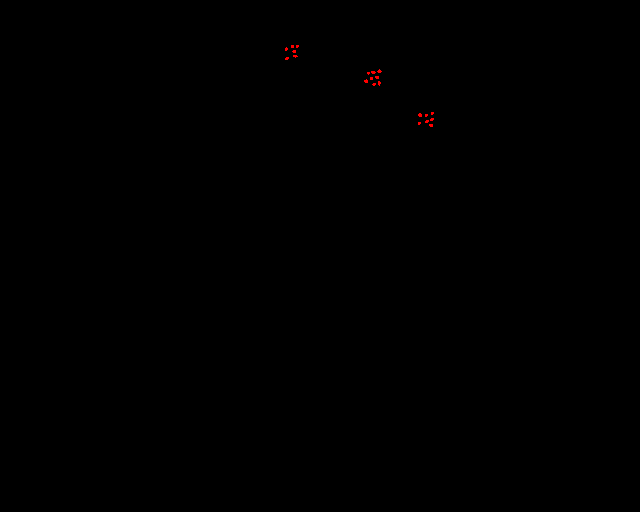Target: (377, 69, 382, 73), (364, 79, 368, 83), (418, 113, 422, 117), (293, 55, 298, 58), (371, 71, 376, 74), (378, 81, 381, 86), (285, 47, 288, 51), (292, 50, 296, 53), (285, 57, 289, 60), (375, 76, 379, 79), (372, 83, 376, 86), (430, 118, 434, 121), (425, 120, 429, 123), (429, 124, 433, 127), (291, 45, 294, 48), (296, 45, 299, 48), (367, 72, 370, 75), (370, 77, 373, 80), (431, 112, 434, 115), (425, 114, 428, 117), (418, 122, 421, 125)
